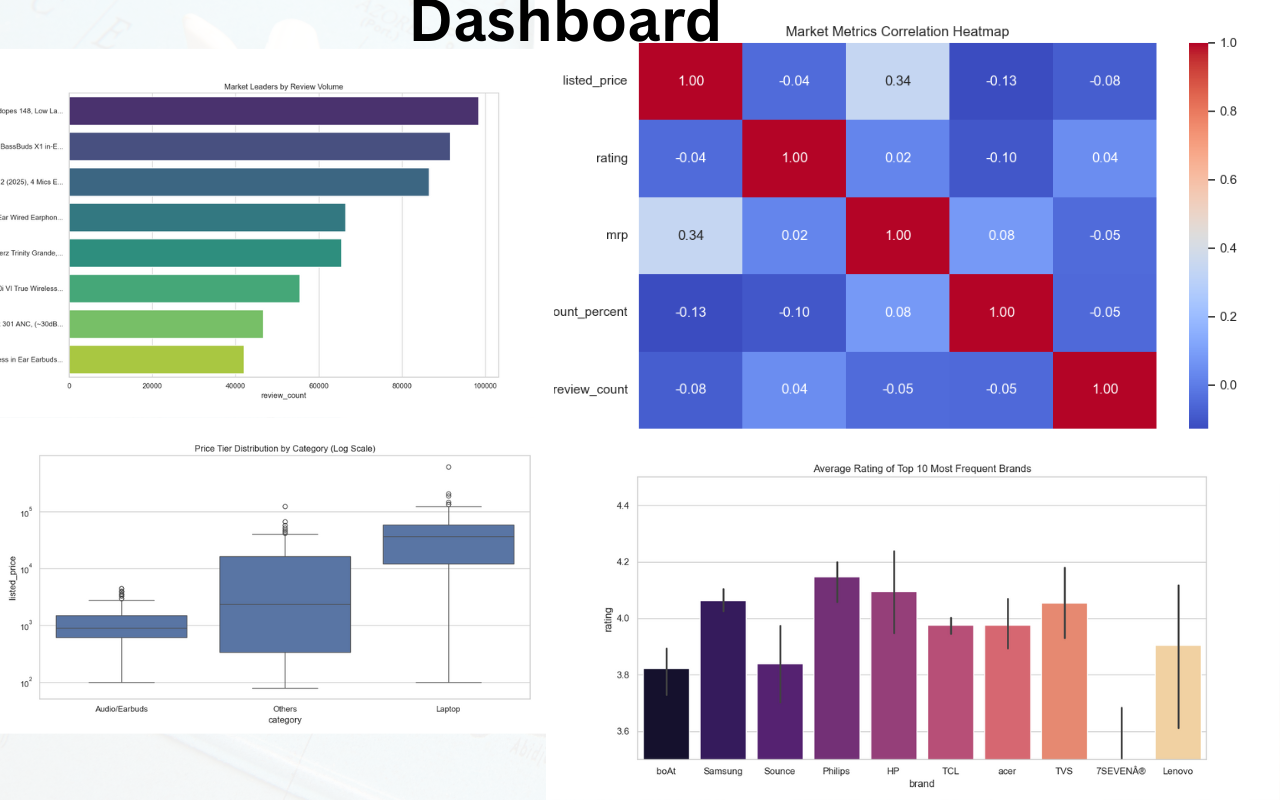

The page's visual inventory and layout, read from the dashboard file:
{"tool":"tableau","page":{"name":"Dashboard 2","canvas":[1000,1000],"units":"permille","ordinal":1},"visuals":[{"type":"worksheet","title":"Sheet 3","mark":"Automatic","rows":["price"],"cols":["mrp"],"box":[7,12.9,383.5,487.1]},{"type":"worksheet","title":"Sheet 2","mark":"Automatic","rows":["source_sheet"],"cols":["rating"],"box":[390.4,12.9,602.6,320.4]},{"type":"worksheet","title":"Sheet 4","mark":"Automatic","rows":["product_name"],"cols":["rating"],"box":[390.4,333.3,602.6,653.8]},{"type":"worksheet","title":"Sheet 1","mark":"Automatic","rows":["price"],"cols":["source_sheet"],"box":[7,500,383.5,487.1]}]}

Visuals, with their boxes on the dashboard's canvas, which has no fixed pixel size, in thousandths of its width and height (x1, y1, x2, y2). These are canvas units, not pixel positions in the 1280x800 screenshot, which may show the page scaled, cropped or inside an application window:
"Sheet 3" worksheet: pyautogui.locateOnScreen(7, 13, 390, 500)
"Sheet 2" worksheet: pyautogui.locateOnScreen(390, 13, 993, 333)
"Sheet 4" worksheet: pyautogui.locateOnScreen(390, 333, 993, 987)
"Sheet 1" worksheet: pyautogui.locateOnScreen(7, 500, 390, 987)
